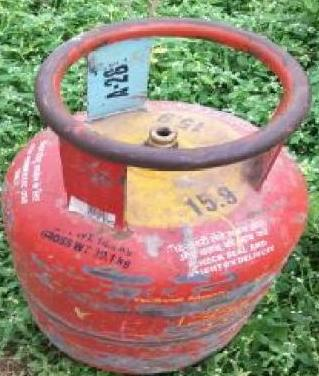cylinder: (1, 0, 319, 376)
